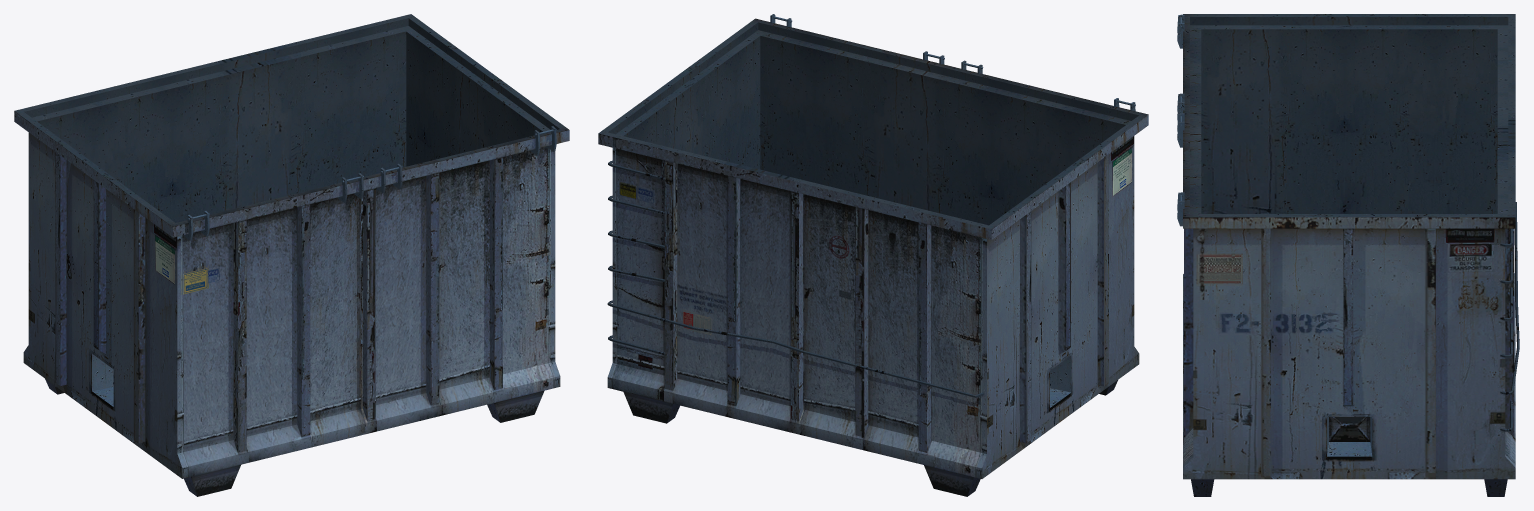
Rendered from dumpster_big.glb.
3 renders of one model, left to right at view 1: azimuth 30°, elevation 25°; view 2: azimuth 150°, elevation 25°; view 3: azimuth 270°, elevation 25°, orthographic. The views are drawn at different scales.
Parts seen in each view (by area): view 1: prop; view 2: prop; view 3: prop.
Boxes of the visible parts, x1=… form: prop: x1=14, y1=14, x2=569, y2=496; prop: x1=598, y1=14, x2=1148, y2=496; prop: x1=1177, y1=14, x2=1519, y2=496.
Size of the model in its own units: 3.45 by 2.4 by 2.46.
Materials: 1 (1 with a texture image).
